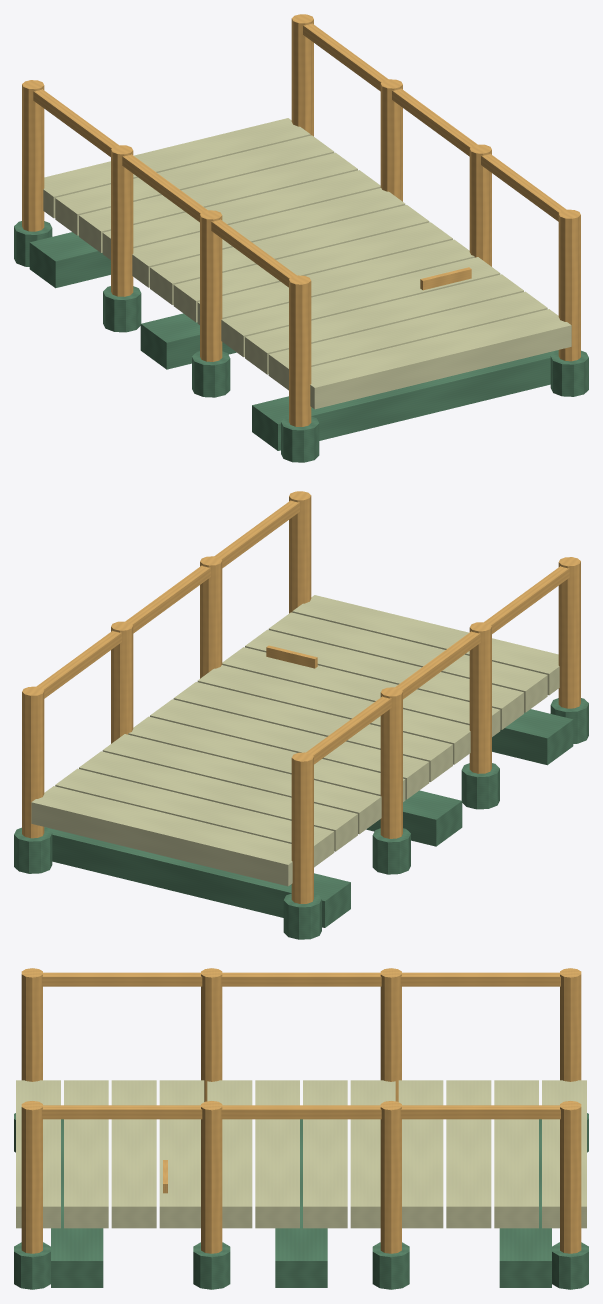
File: atlas100-s004-a02.glb
The picture shows the model from 3 angles, top to bottom: view 1: azimuth 30°, elevation 25°; view 2: azimuth 150°, elevation 25°; view 3: azimuth 270°, elevation 25°; orthographic projection.
Visible parts, largest first — view 1: atlas100-s004-a02:part-011, atlas100-s004-a02:part-032, atlas100-s004-a02:part-009, atlas100-s004-a02:part-010, atlas100-s004-a02:part-006, atlas100-s004-a02:part-005, atlas100-s004-a02:part-001, atlas100-s004-a02:part-002, atlas100-s004-a02:part-004, atlas100-s004-a02:part-008, atlas100-s004-a02:part-000, atlas100-s004-a02:part-003 (+19 smaller); view 2: atlas100-s004-a02:part-000, atlas100-s004-a02:part-030, atlas100-s004-a02:part-002, atlas100-s004-a02:part-003, atlas100-s004-a02:part-001, atlas100-s004-a02:part-005, atlas100-s004-a02:part-006, atlas100-s004-a02:part-010, atlas100-s004-a02:part-007, atlas100-s004-a02:part-011, atlas100-s004-a02:part-004, atlas100-s004-a02:part-009 (+19 smaller); view 3: atlas100-s004-a02:part-020, atlas100-s004-a02:part-029, atlas100-s004-a02:part-002, atlas100-s004-a02:part-009, atlas100-s004-a02:part-001, atlas100-s004-a02:part-005, atlas100-s004-a02:part-006, atlas100-s004-a02:part-010, atlas100-s004-a02:part-003, atlas100-s004-a02:part-008, atlas100-s004-a02:part-004, atlas100-s004-a02:part-007 (+17 smaller).
Boxes of the visible parts, x1,y1,x2,y2 form: atlas100-s004-a02:part-011: (310, 309, 571, 409); atlas100-s004-a02:part-032: (252, 350, 558, 450); atlas100-s004-a02:part-009: (245, 274, 523, 374); atlas100-s004-a02:part-010: (268, 291, 547, 390); atlas100-s004-a02:part-006: (173, 222, 452, 322); atlas100-s004-a02:part-005: (150, 205, 429, 304); atlas100-s004-a02:part-001: (55, 135, 334, 235); atlas100-s004-a02:part-002: (79, 152, 357, 252); atlas100-s004-a02:part-004: (132, 188, 405, 287); atlas100-s004-a02:part-008: (221, 257, 500, 357); atlas100-s004-a02:part-000: (43, 118, 310, 218); atlas100-s004-a02:part-003: (102, 170, 380, 259); atlas100-s004-a02:part-000: (31, 786, 292, 886); atlas100-s004-a02:part-030: (44, 827, 350, 927); atlas100-s004-a02:part-002: (79, 751, 357, 851); atlas100-s004-a02:part-003: (102, 734, 381, 834); atlas100-s004-a02:part-001: (55, 768, 334, 867); atlas100-s004-a02:part-005: (150, 699, 429, 799); atlas100-s004-a02:part-006: (173, 682, 452, 781); atlas100-s004-a02:part-010: (268, 612, 547, 712); atlas100-s004-a02:part-007: (197, 665, 470, 764); atlas100-s004-a02:part-011: (292, 595, 559, 695); atlas100-s004-a02:part-004: (128, 716, 405, 801); atlas100-s004-a02:part-009: (245, 629, 523, 729); atlas100-s004-a02:part-020: (42, 972, 560, 986); atlas100-s004-a02:part-029: (42, 1105, 560, 1119); atlas100-s004-a02:part-002: (446, 1080, 491, 1228); atlas100-s004-a02:part-009: (111, 1080, 156, 1228); atlas100-s004-a02:part-001: (494, 1080, 538, 1228); atlas100-s004-a02:part-005: (303, 1080, 347, 1228); atlas100-s004-a02:part-006: (255, 1080, 299, 1228); atlas100-s004-a02:part-010: (64, 1080, 108, 1228); atlas100-s004-a02:part-003: (398, 1080, 443, 1228); atlas100-s004-a02:part-008: (159, 1080, 204, 1228); atlas100-s004-a02:part-004: (350, 1080, 395, 1228); atlas100-s004-a02:part-007: (207, 1080, 252, 1228).
Bounding box in the file's own units: 2.36 × 1.3 × 3.85.
4 materials, 4 textured.
